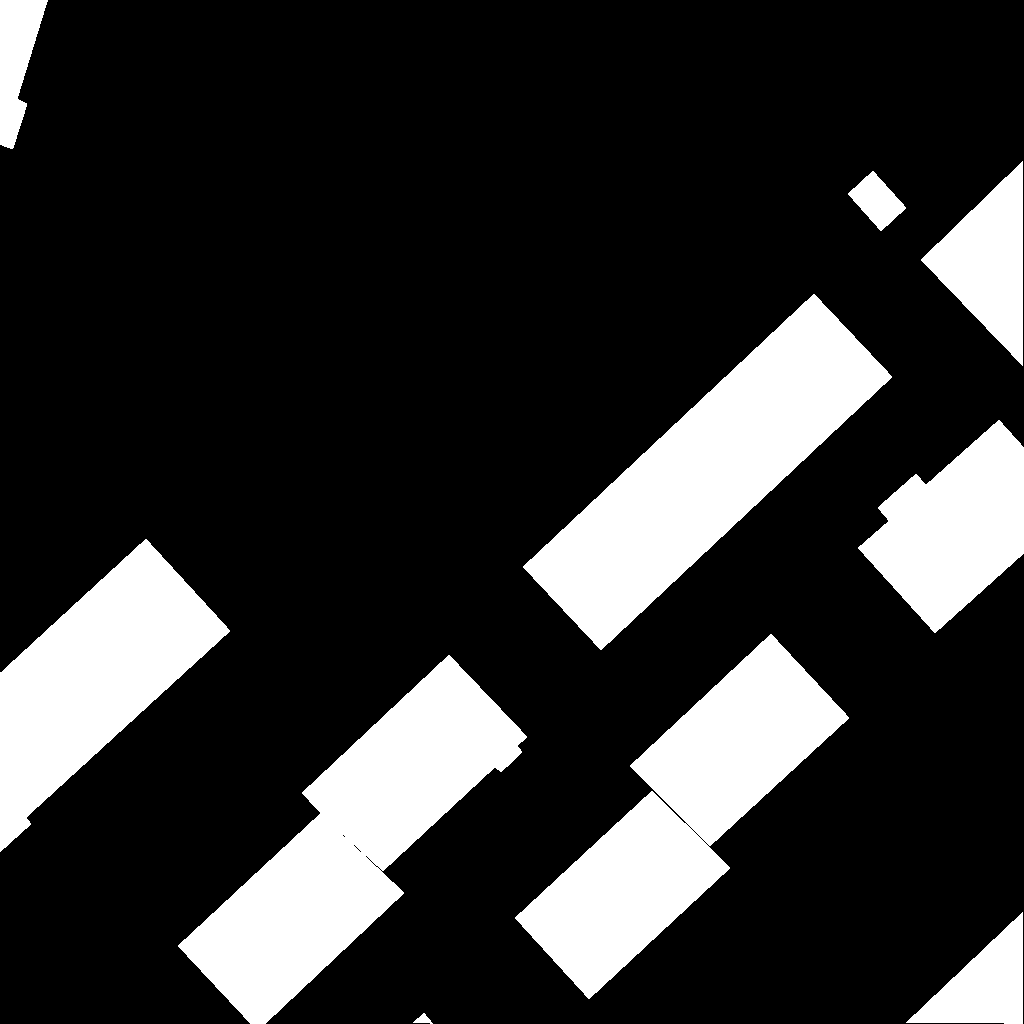building: (523, 294, 893, 651), (0, 539, 231, 853), (302, 655, 528, 872), (178, 814, 405, 1024), (630, 634, 850, 847), (515, 791, 731, 1000), (858, 420, 1024, 634), (921, 161, 1024, 367), (906, 912, 1024, 1024), (0, 0, 49, 183), (848, 171, 907, 232), (413, 1013, 434, 1024)
